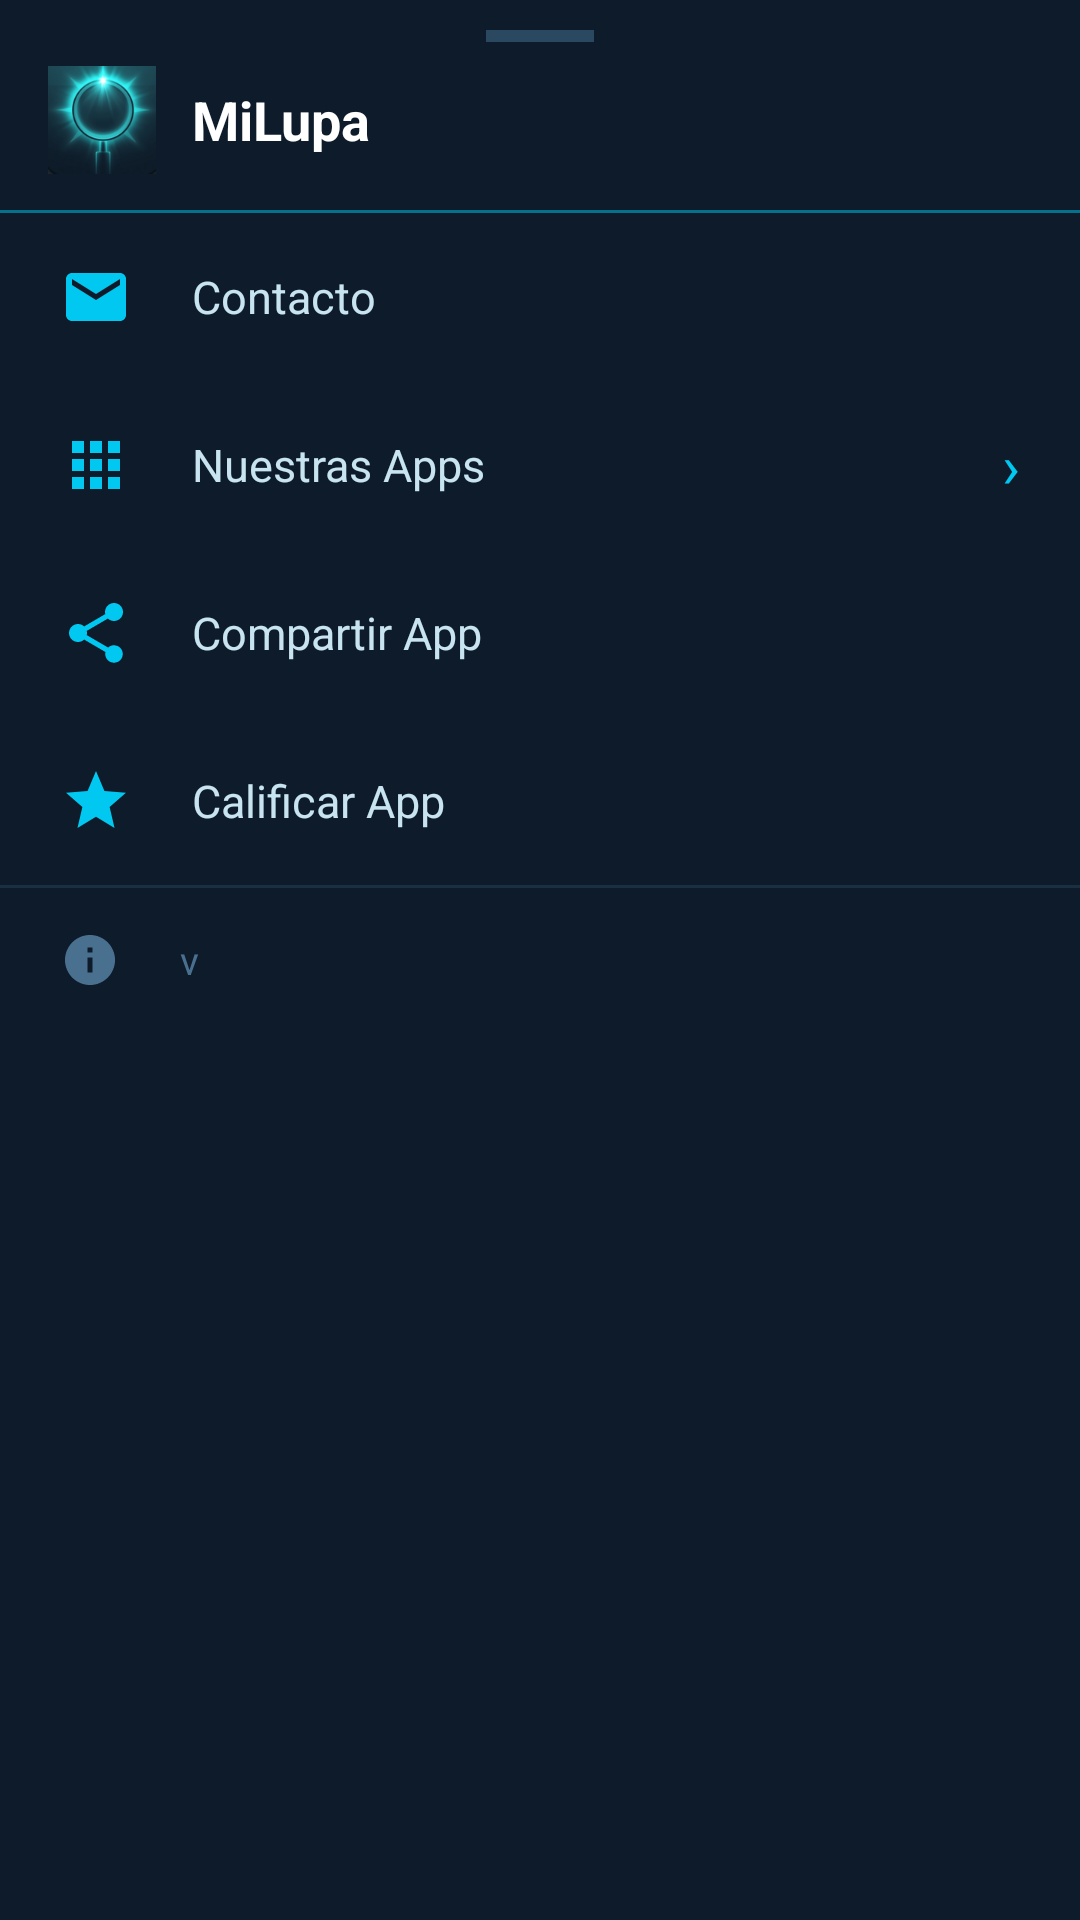

Screen size 1080x1920. Icon name, then its box in pixels as detection(x1, y1, x2, y2):
email: detection(66, 273, 126, 321)
info: detection(65, 935, 115, 985)
share: detection(69, 603, 123, 663)
star: detection(66, 771, 126, 828)
